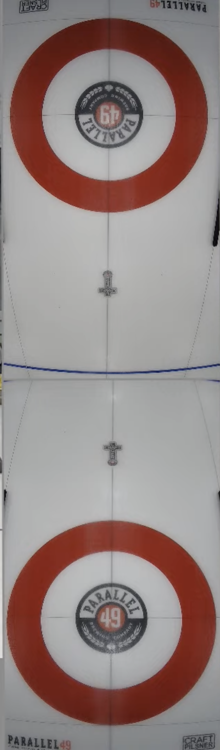house: (6, 521, 217, 726), (11, 20, 209, 212)
